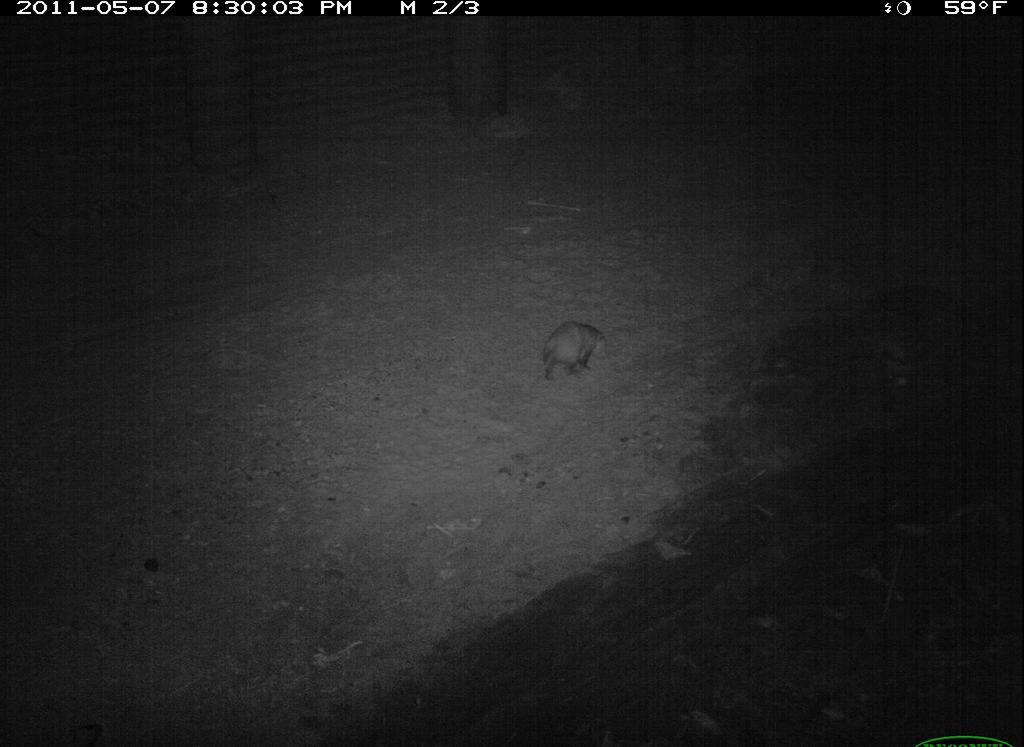opossum: (528, 314, 616, 396)
